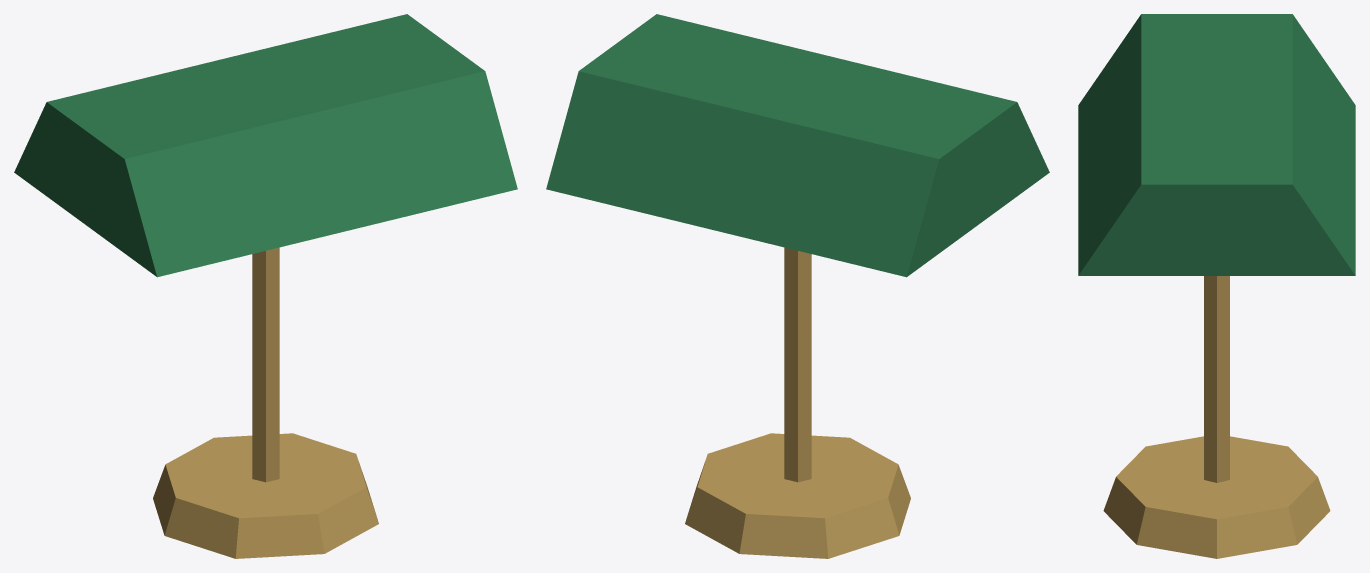
Rendered from desk_lamp.gltf.
3 views of the same model, side by side, from view 1: azimuth 30°, elevation 25°; view 2: azimuth 150°, elevation 25°; view 3: azimuth 270°, elevation 25° (orthographic). The views are drawn at different scales.
Parts seen in each view (by area): view 1: Mesh; view 2: Mesh; view 3: Mesh.
Part boxes in pixels (x1,y1,x2,y2): Mesh: (14, 14, 517, 558); Mesh: (546, 14, 1049, 558); Mesh: (1078, 14, 1355, 558).
Size of the model in its own units: 0.32 by 0.36 by 0.22.
